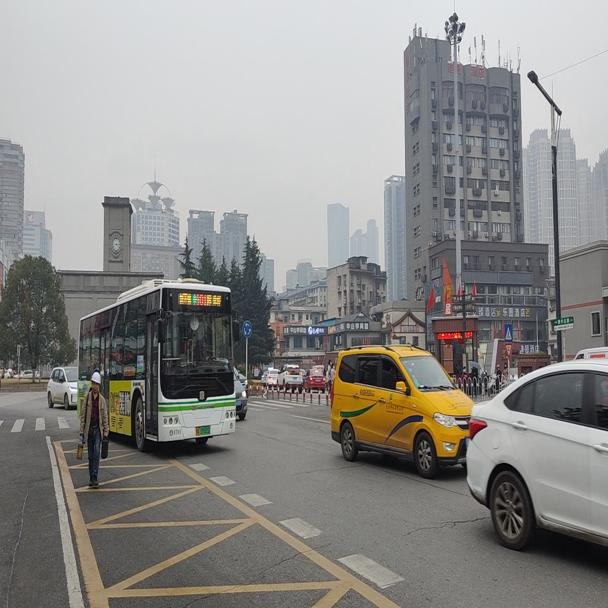bus: (75, 275, 237, 454)
screen: (196, 292, 206, 306)
